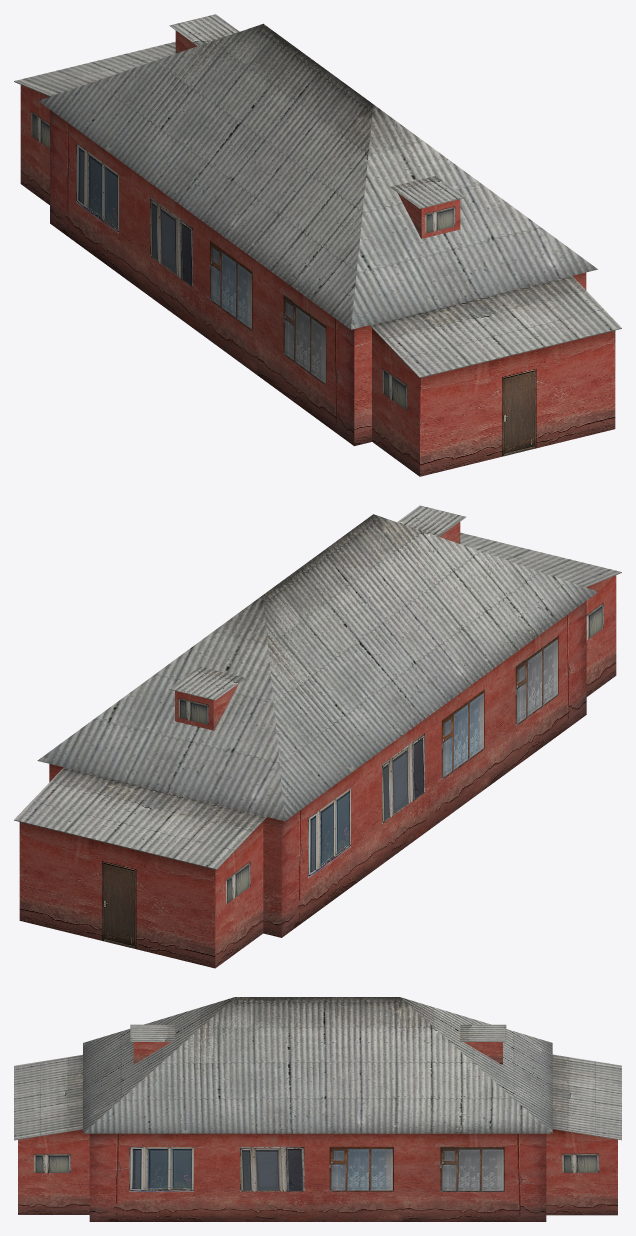
File: r402_tukalinsk_dom5.FBX
The picture shows the model from 3 angles, top to bottom: view 1: azimuth 30°, elevation 25°; view 2: azimuth 150°, elevation 25°; view 3: azimuth 270°, elevation 25°; orthographic projection. The views are drawn at different scales.
Visible parts, largest first — view 1: r402_tukalinsk_dom5; view 2: r402_tukalinsk_dom5; view 3: r402_tukalinsk_dom5.
Boxes of the visible parts, x1,y1,x2,y2 form: r402_tukalinsk_dom5: (14,14,621,476); r402_tukalinsk_dom5: (14,505,621,968); r402_tukalinsk_dom5: (14,997,621,1221).
Size of the model in its own units: 640 by 1814 by 600.
